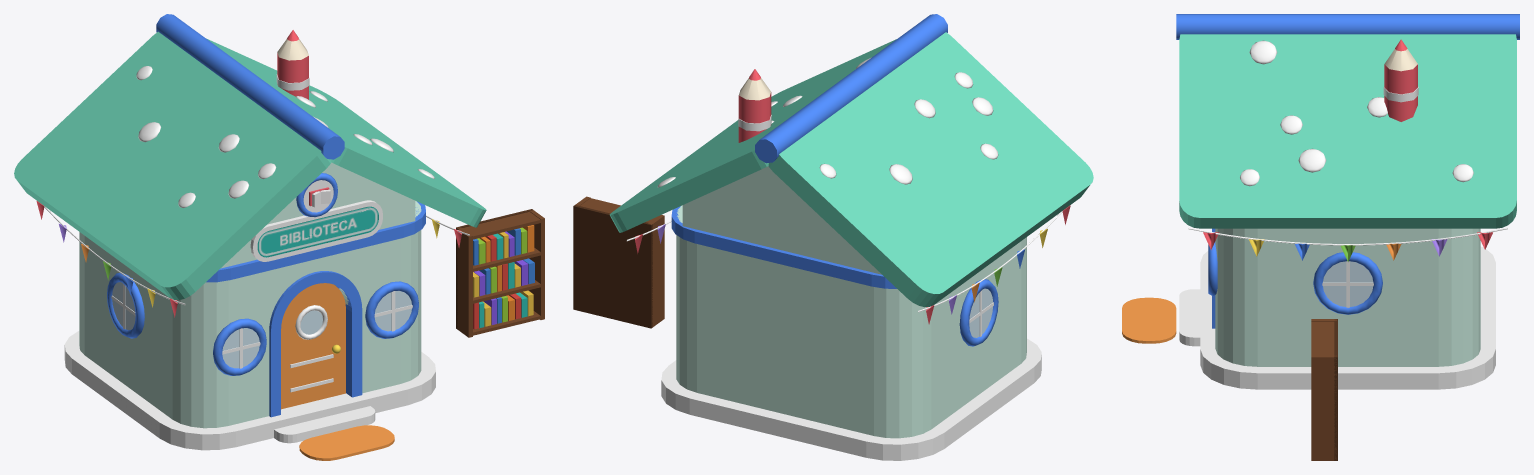
File: estacion_multisaberes_biblioteca.glb
3 views of the same model, side by side, from view 1: azimuth 30°, elevation 25°; view 2: azimuth 150°, elevation 25°; view 3: azimuth 270°, elevation 25° (orthographic). The views are drawn at different scales.
Visible parts, largest first — view 1: teja (×2), muros, base, hoja, cumbrera, marco, aro (×3), hastial_frente, letrero_texto, cinta, vidrio (×3), tapete (+8 smaller); view 2: teja (×2), muros, base, hastial_fondo, fondo, cumbrera, cinta, lado_izq, aro, cuerpo, vidrio, madera; view 3: teja, muros, base, cumbrera, lado_der, tapete, aro (×2), vidrio, cuerpo, escalon, estante_4, cuerda (+4 smaller).
Part boxes in pixels (<box>): teja (×2): <box>14,31,486,300</box>; muros: <box>79,201,421,428</box>; base: <box>64,331,435,450</box>; hoja: <box>281,283,345,409</box>; cumbrera: <box>156,14,344,159</box>; marco: <box>269,271,362,417</box>; aro (×3): <box>107,273,418,375</box>; hastial_frente: <box>220,162,415,268</box>; letrero_texto: <box>257,206,378,257</box>; cinta: <box>206,201,425,282</box>; vidrio (×3): <box>112,282,411,368</box>; tapete: <box>299,425,394,460</box>; teja (×2): <box>609,32,1093,307</box>; muros: <box>676,205,1026,438</box>; base: <box>661,338,1041,460</box>; hastial_fondo: <box>682,166,881,274</box>; fondo: <box>573,205,652,328</box>; cumbrera: <box>755,14,947,163</box>; cinta: <box>671,206,896,288</box>; lado_izq: <box>648,215,664,327</box>; aro: <box>959,279,998,346</box>; cuerpo: <box>738,92,771,142</box>; vidrio: <box>969,288,992,337</box>; madera: <box>739,78,770,100</box>; teja: <box>1179,34,1516,228</box>; muros: <box>1215,228,1480,366</box>; base: <box>1200,246,1495,389</box>; cumbrera: <box>1176,14,1519,39</box>; lado_der: <box>1311,355,1336,460</box>; tapete: <box>1122,297,1176,343</box>; aro (×2): <box>1208,242,1382,314</box>; vidrio: <box>1323,261,1373,306</box>; cuerpo: <box>1384,64,1417,121</box>; escalon: <box>1179,289,1200,346</box>; estante_4: <box>1311,321,1334,354</box>; cuerda: <box>1188,227,1507,245</box>.
Size of the model in its own units: 8.63 by 5.81 by 6.6.
21 materials, 1 textured.
